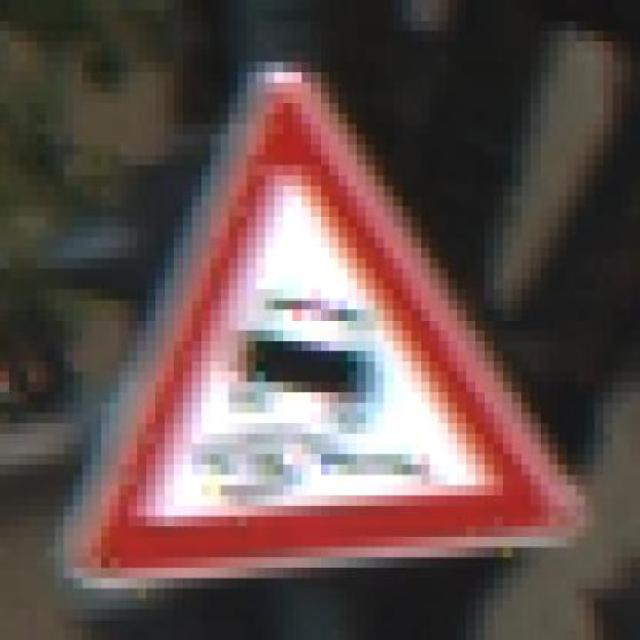Slippery Road Ahead: (41, 60, 590, 597)
